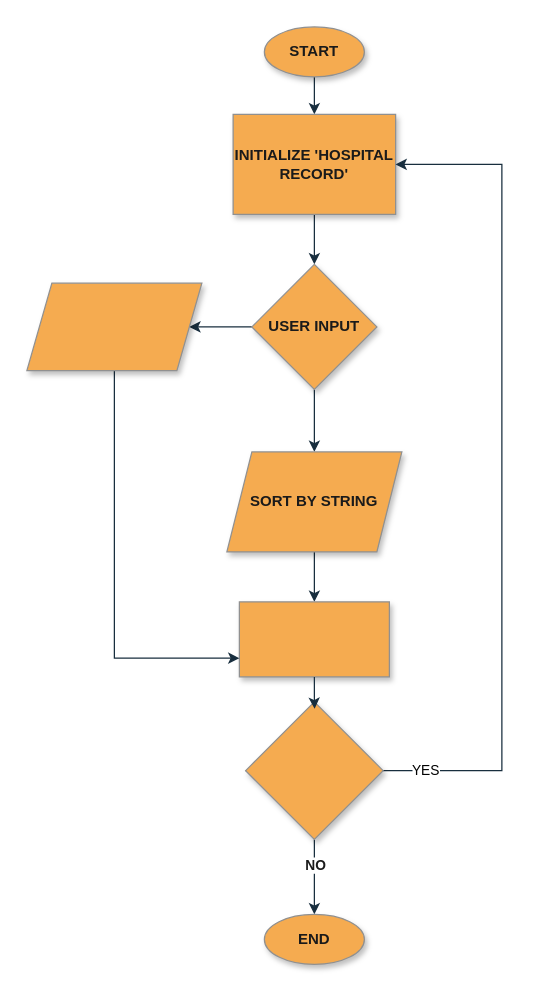
The diagram is 534 pixels wide and 995 high, and some of its shapes have lost their labels. Here are the shapes that lost their labels. From the top down, the centre of each, then its label:
At (x=115, y=328): "SORT BY INTEGER".
At (x=315, y=641): "PRINT SORTED RECORD".
At (x=315, y=772): "CONTINUE".
